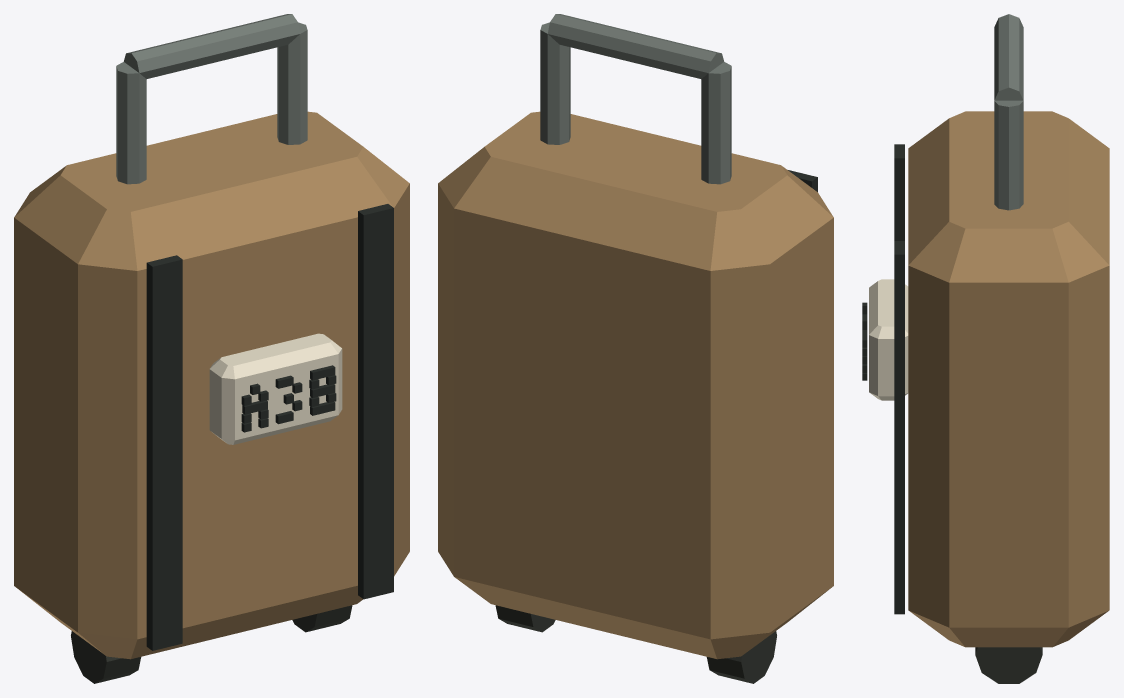
The model's file is suitcase.glb.
3 renders of one model, left to right at view 1: azimuth 30°, elevation 25°; view 2: azimuth 150°, elevation 25°; view 3: azimuth 270°, elevation 25°, orthographic. The views are drawn at different scales.
Visible parts, largest first — view 1: suitcase; view 2: suitcase; view 3: suitcase.
Boxes of the visible parts, x1,y1,x2,y2 form: suitcase: (14,14,409,683); suitcase: (438,14,833,683); suitcase: (862,14,1109,683).
Bounding box in the file's own units: 0.66 × 1.17 × 0.4545.
